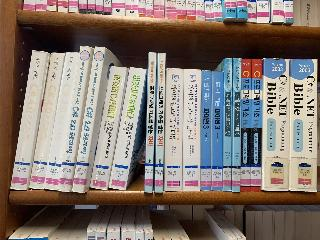book-spine: (9, 50, 48, 191), (71, 45, 106, 192), (58, 46, 93, 192), (29, 51, 65, 191), (44, 51, 79, 191), (90, 64, 128, 190), (109, 66, 146, 190), (289, 59, 319, 191), (262, 58, 290, 191), (165, 69, 184, 191), (183, 69, 202, 191), (239, 59, 252, 192), (249, 59, 262, 191), (145, 52, 156, 193), (155, 52, 166, 193), (201, 71, 212, 190), (212, 71, 223, 190), (233, 58, 242, 192), (223, 59, 232, 191)
